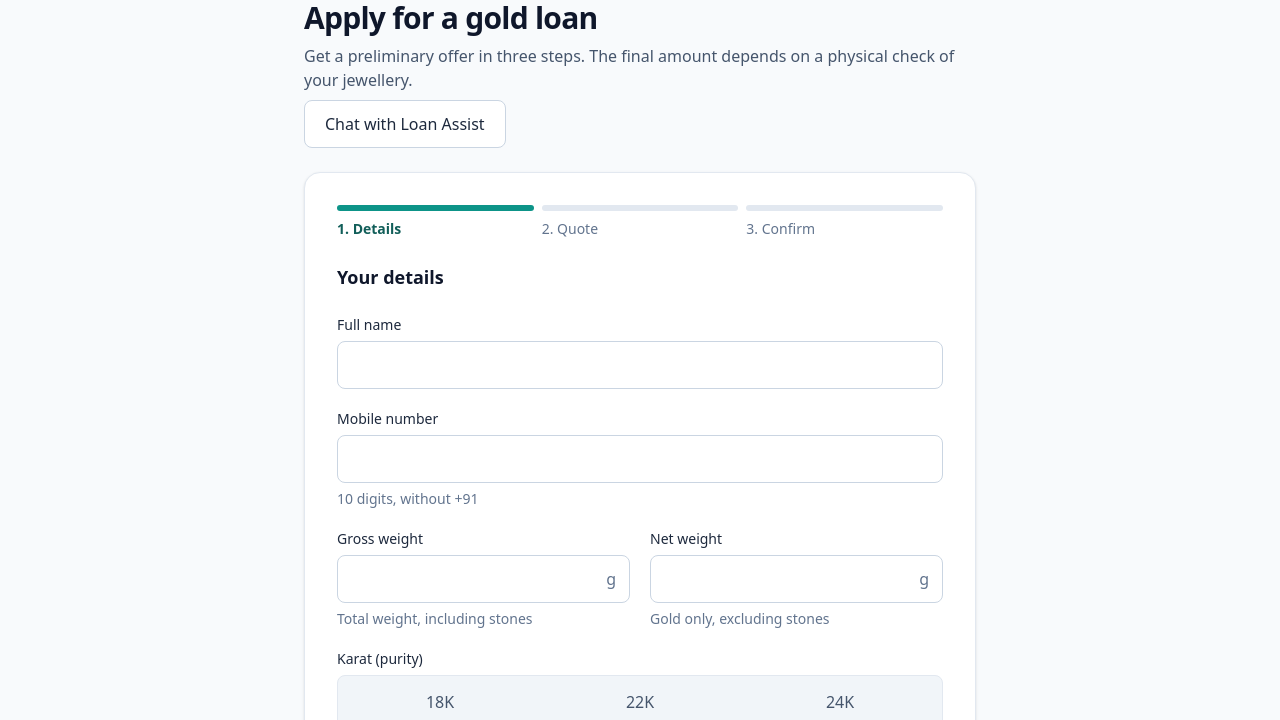
Loan Assist panel › duplicate → the friendly "already applied" text, never raw codes
The width and height of the screenshot is (1280, 720).
Click the button "Chat with Loan Assist": (405, 124) [304, 100, 506, 148]
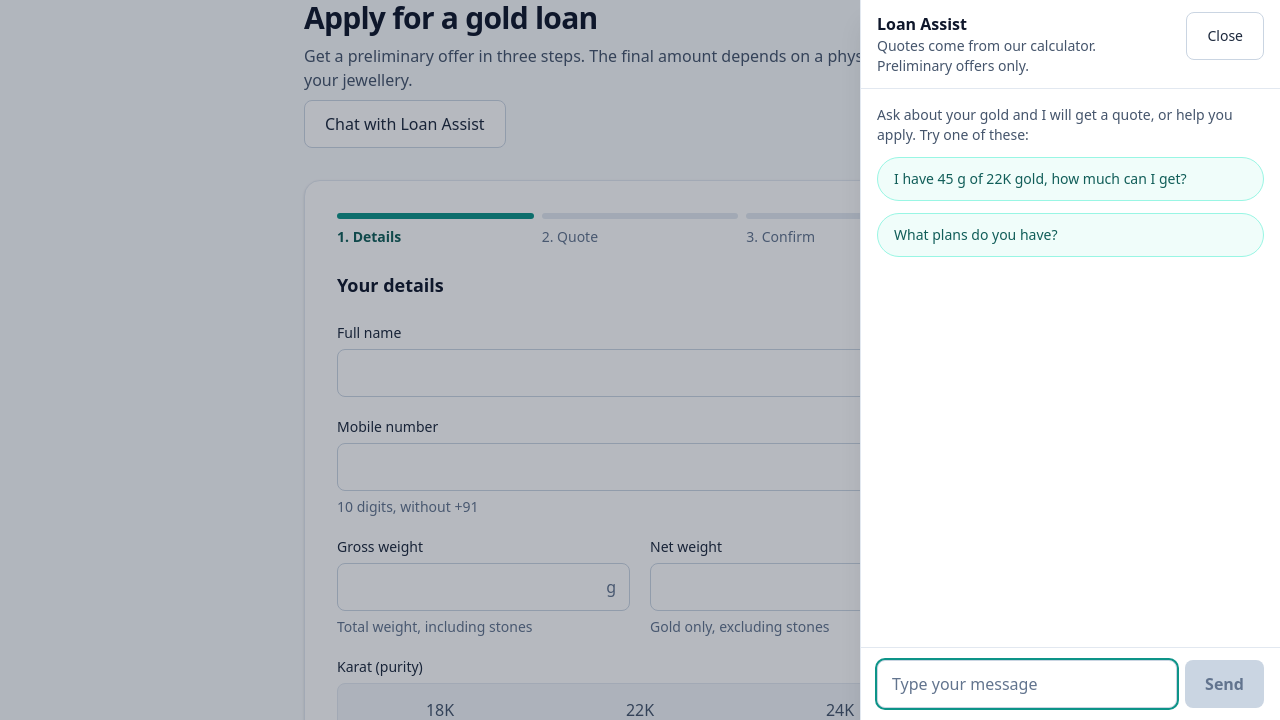
In the field named "Message Loan Assist": (1027, 684) [877, 660, 1177, 708], type "apply me"
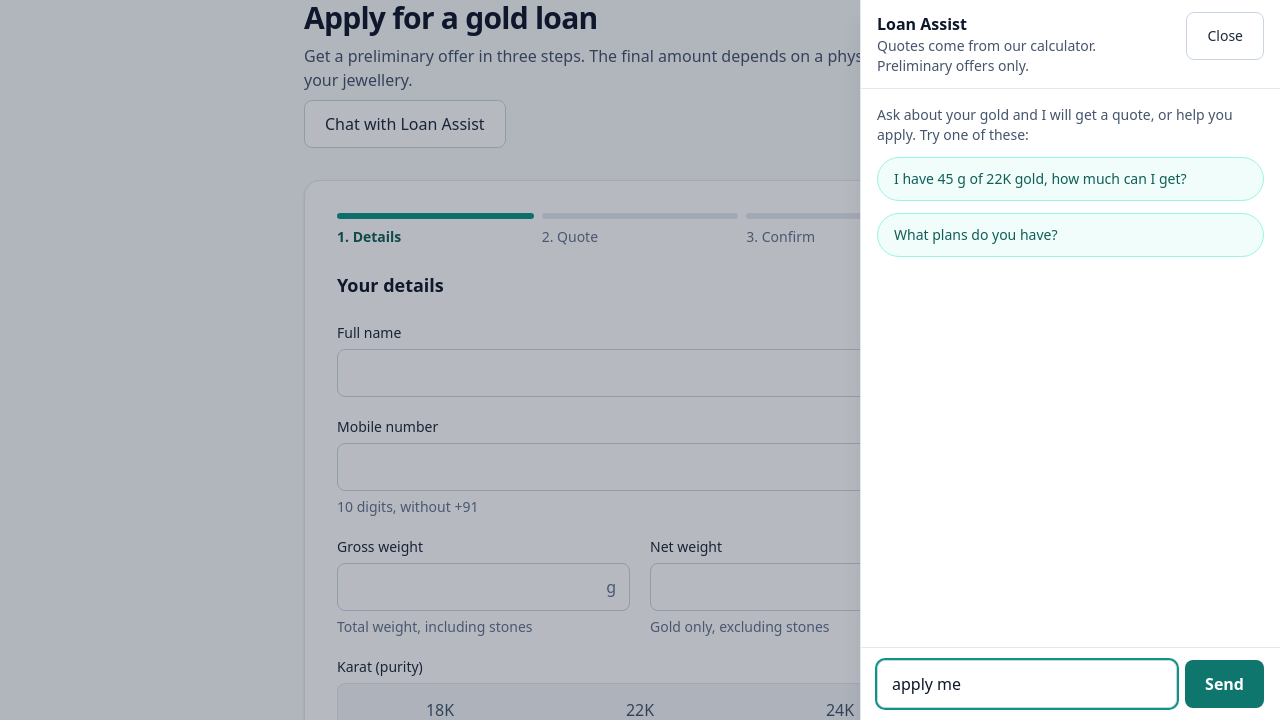
Submit the form named "Message Loan Assist", box [861, 647, 1279, 719]
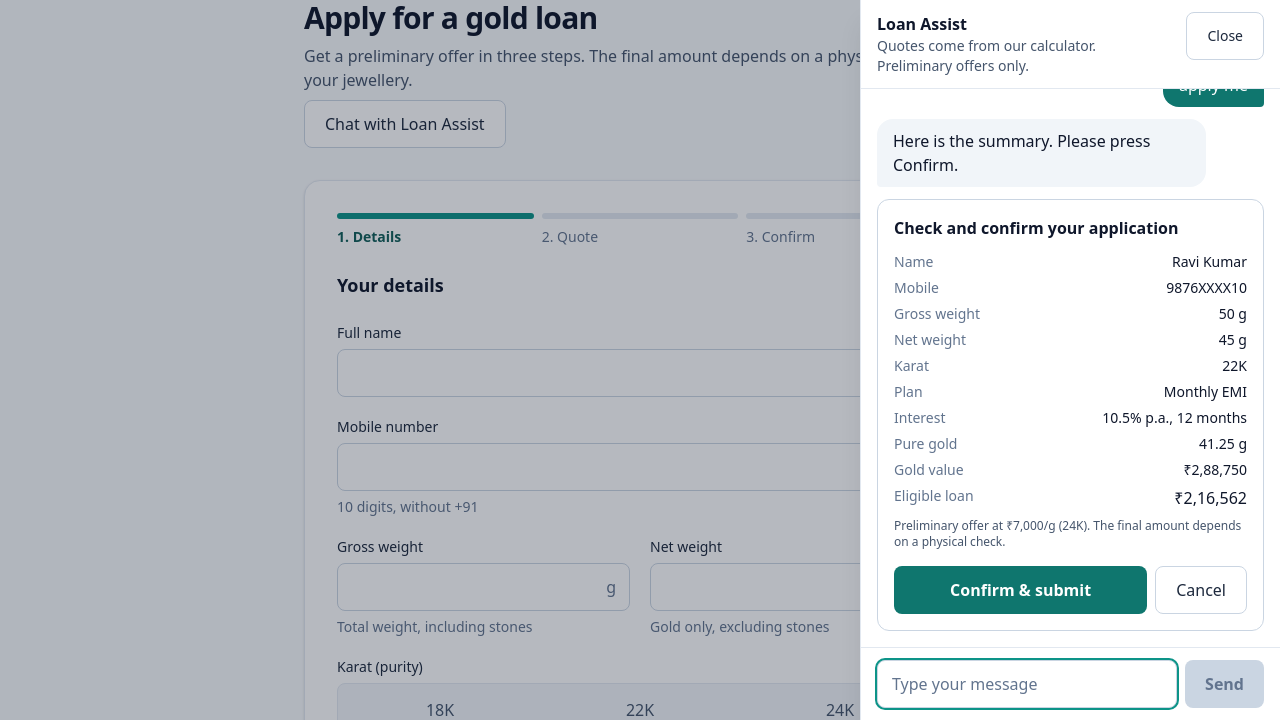
Click the button "Confirm & submit": (1021, 590) [894, 566, 1147, 614]
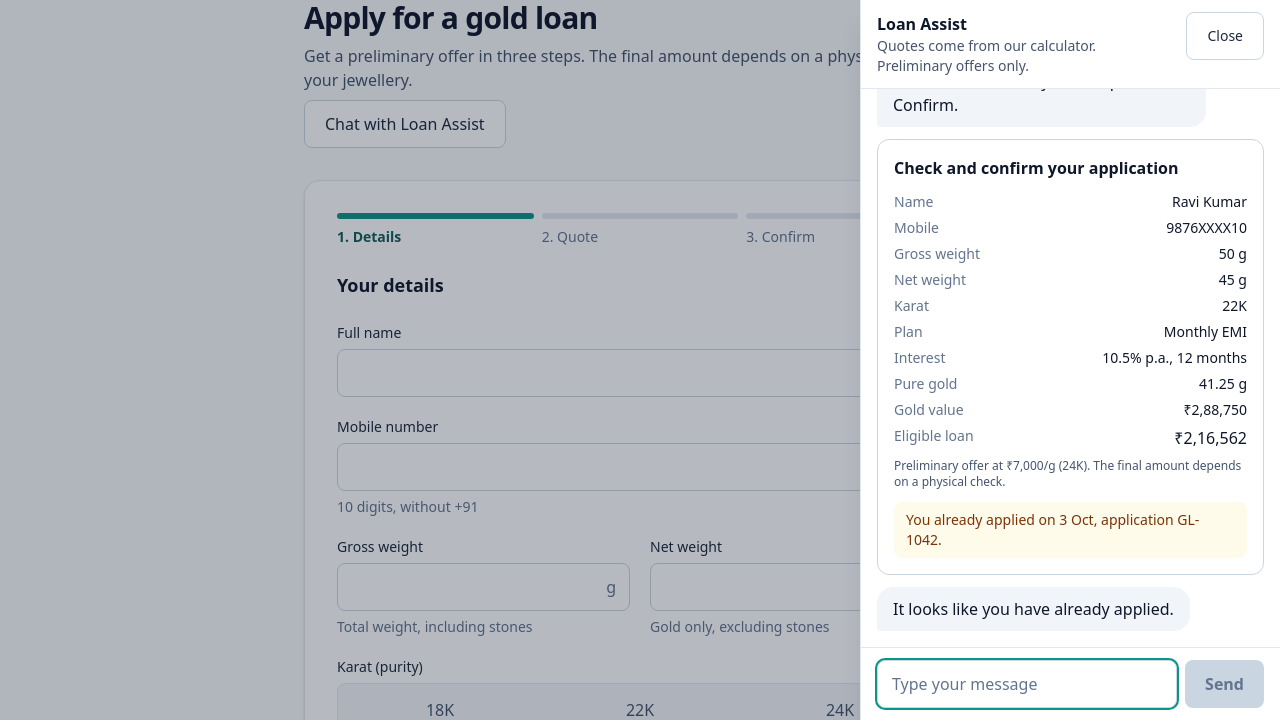
Expected: the text "You already applied on 3 Oct, application GL-1042." is shown, [894, 502, 1247, 558]
